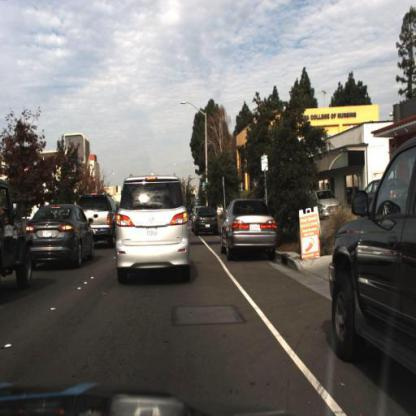car: (329, 136, 416, 367), (119, 182, 192, 276), (26, 200, 95, 265), (1, 183, 35, 295), (222, 199, 276, 263), (87, 193, 118, 249), (307, 177, 344, 221), (314, 188, 344, 221), (195, 206, 220, 239)
